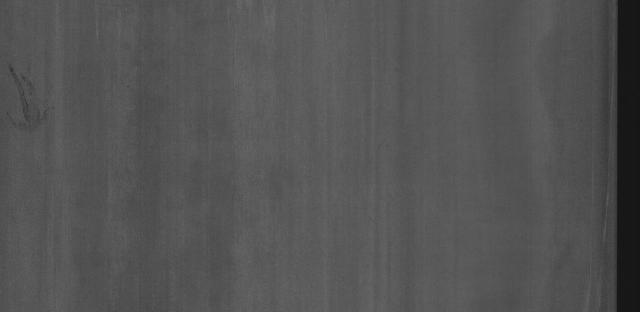water_spot: (3, 56, 59, 132)
